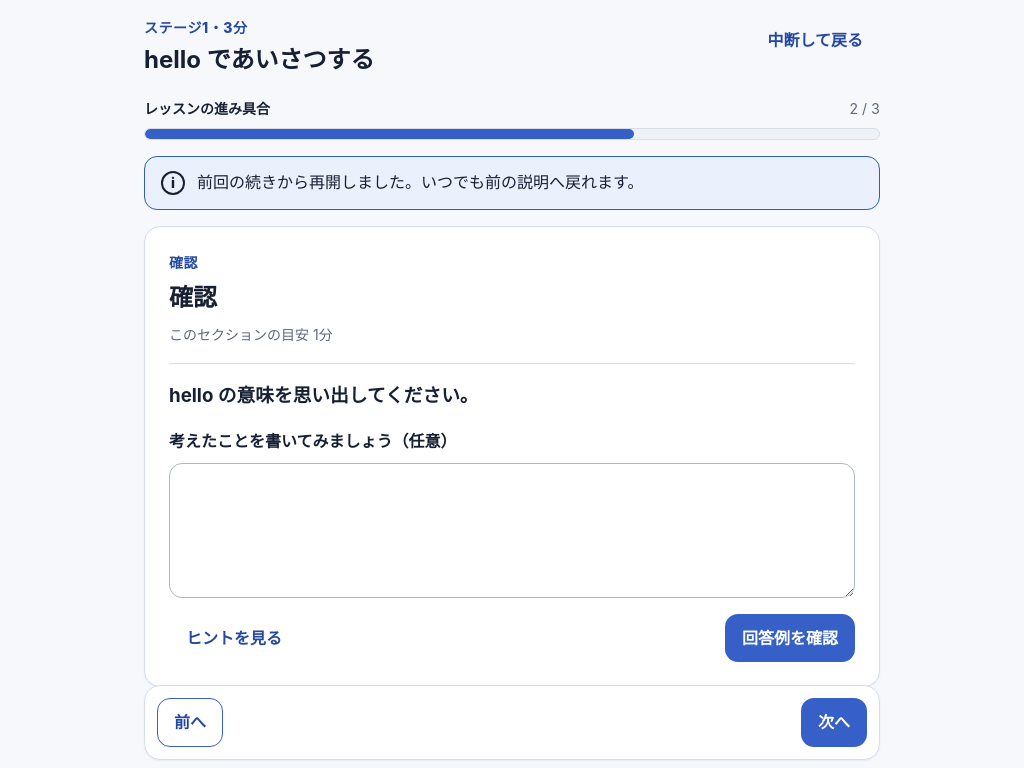
Scenario: レッスンレンダラー › 自己想起のnull採点も保存後は回答済みとして扱う
Expected: the heading named "helloの意味を思い出してください。" is shown, [169,384,479,407]
Click the button "回答例を確認".
click(790, 638)  # box [725,614,855,662]
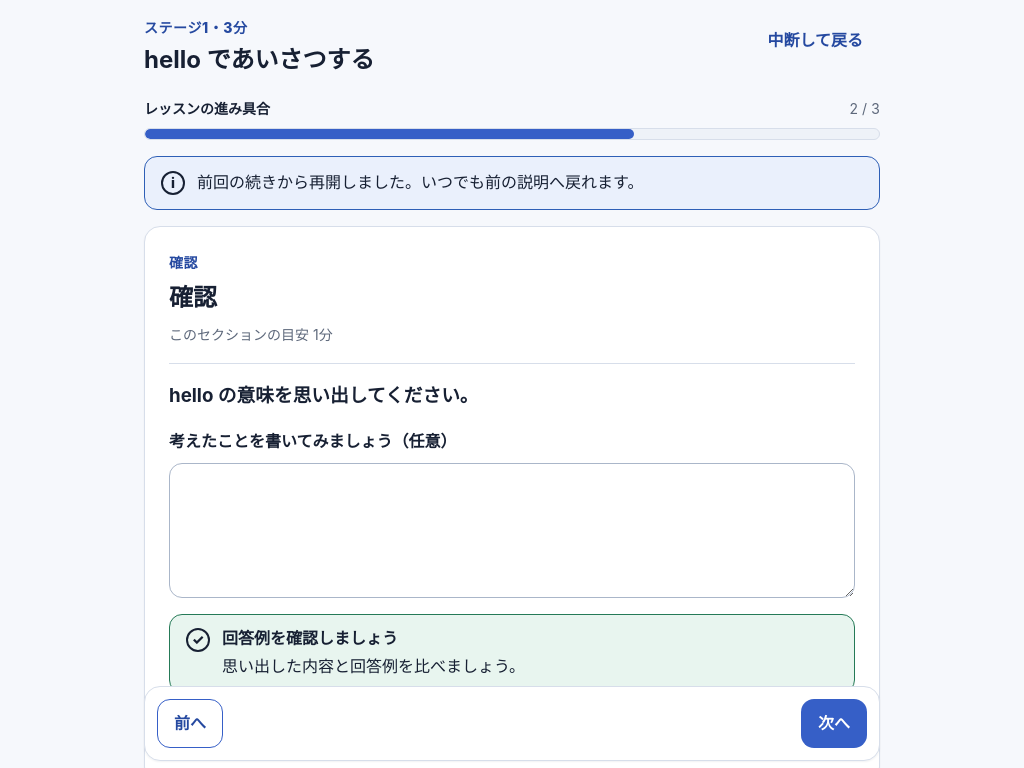
Now the text "回答例を確認しましょう" is shown, box [222,628,398,648]
Click the button "次へ".
click(834, 723)  # box [801,699,867,747]
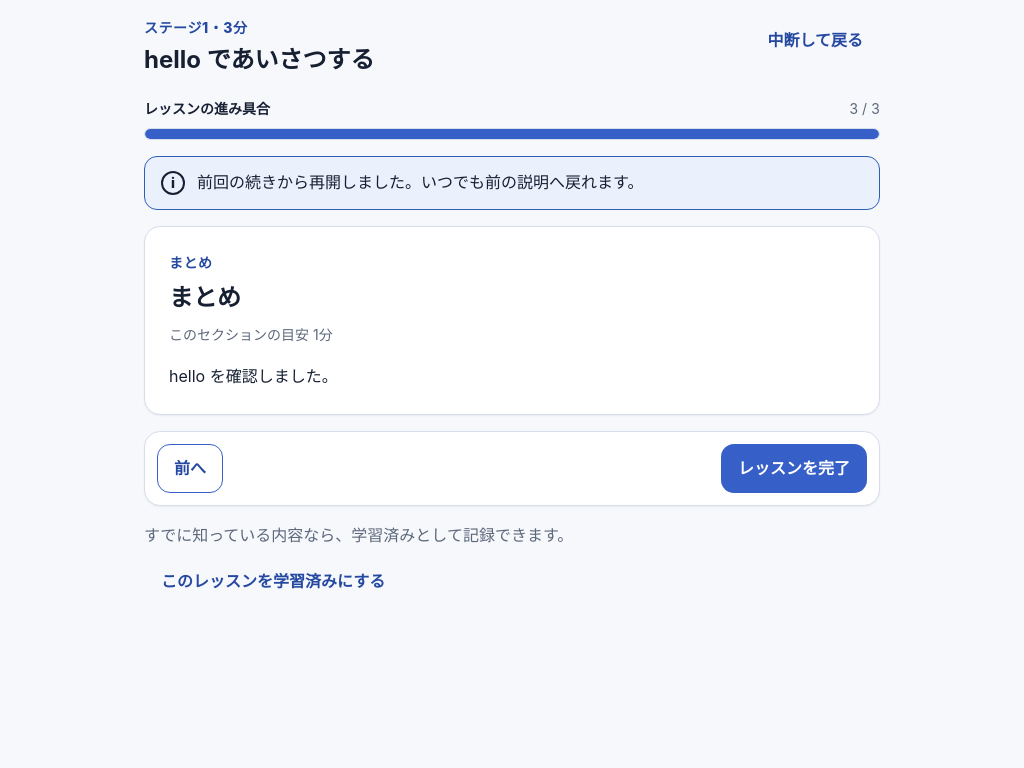
Now the heading "まとめ" is shown, box [169,283,241,312]
